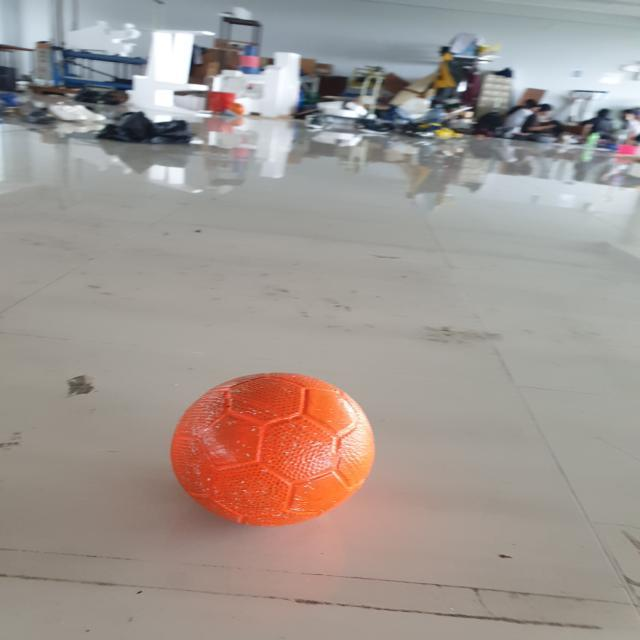bola: (164, 366, 380, 532)
